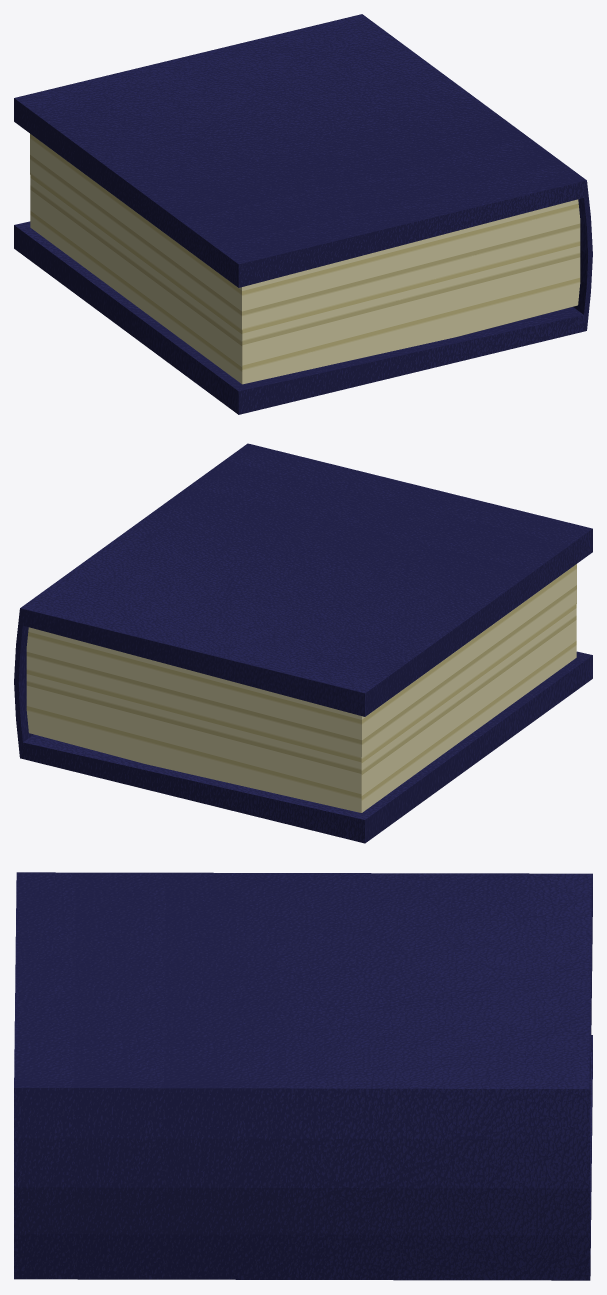
Rendered from Bestiario1.fbx.
3 views of the same model, one above another, from view 1: azimuth 30°, elevation 25°; view 2: azimuth 150°, elevation 25°; view 3: azimuth 270°, elevation 25° (orthographic). The views are drawn at different scales.
Parts seen in each view (by area): view 1: Libro; view 2: Libro; view 3: Libro.
Boxes of the visible parts, x1,y1,x2,y2 form: Libro: (14, 14, 592, 414); Libro: (14, 443, 592, 843); Libro: (14, 872, 592, 1280).
Size of the model in its own units: 35.87 by 14.53 by 39.81.
